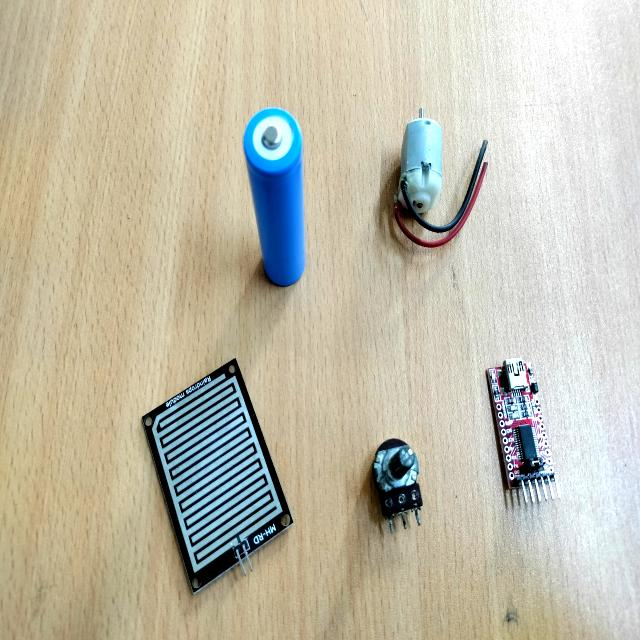3-3-Volt-Battery: (230, 87, 325, 315)
DC-Motor: (386, 84, 499, 271)
FT-232-USB-Serial-Module: (468, 330, 572, 518)
Raindrops-Module: (126, 345, 304, 608)
Taper-Potentiometer: (351, 406, 433, 550)
